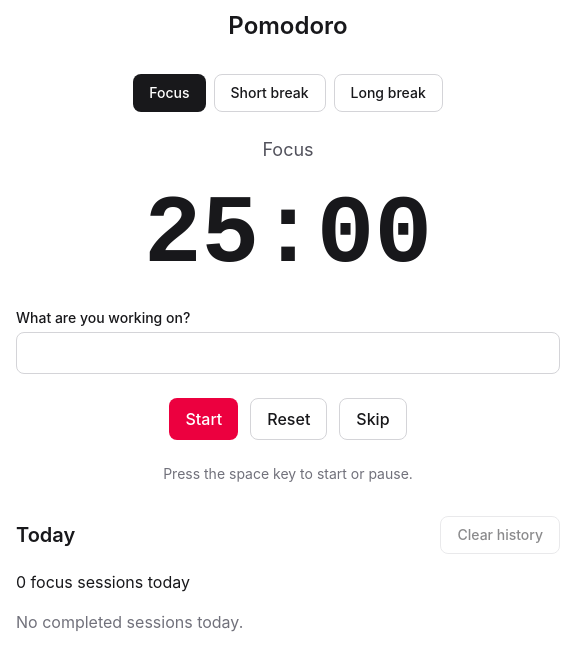
Test: PomodoroApp › plays a sound, records the session, and selects a short break when a focus session ends
Click the button "Start" at (204, 419), box [170,398,238,440]
Wait 1547000 ms
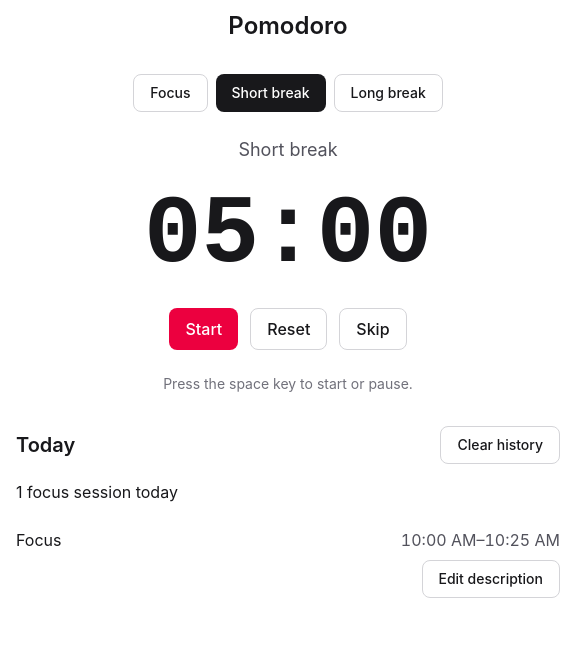
Expected: the button "Short break" is shown, [216,74,326,112]
Expected: the text with test id "focus-count" reads "1 focus session today", [16,482,178,502]
